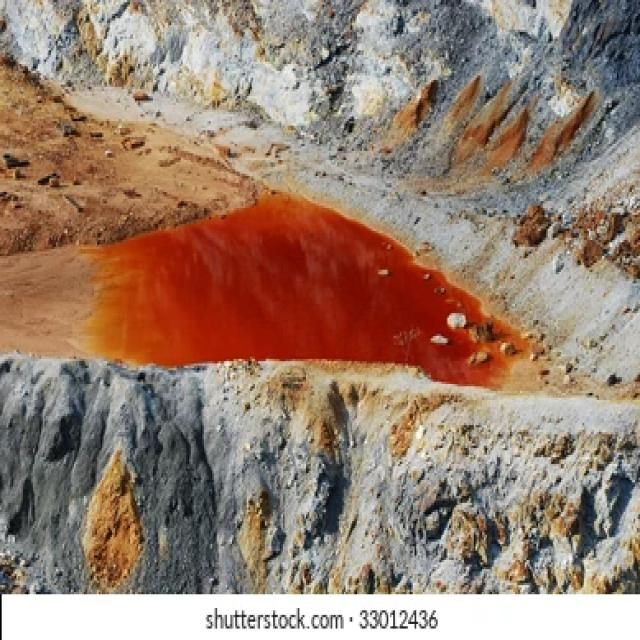yellow_boy: (86, 194, 508, 384)
